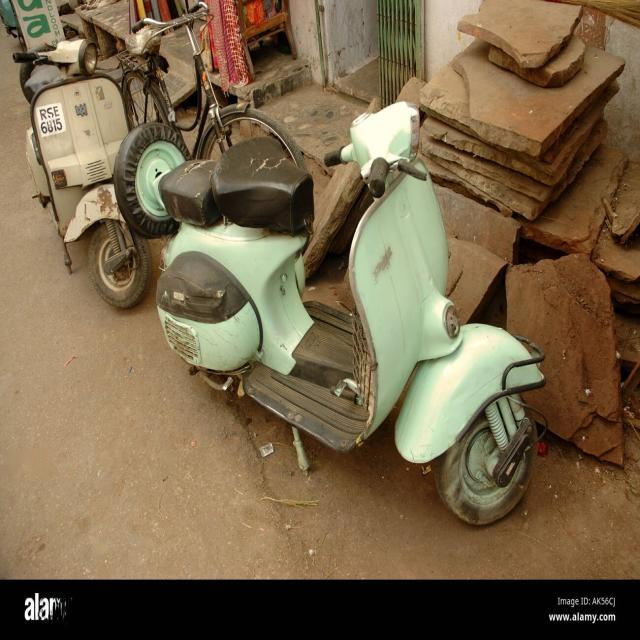bicycle: (118, 2, 304, 168)
motorcycle: (114, 102, 545, 523), (14, 39, 151, 307)
